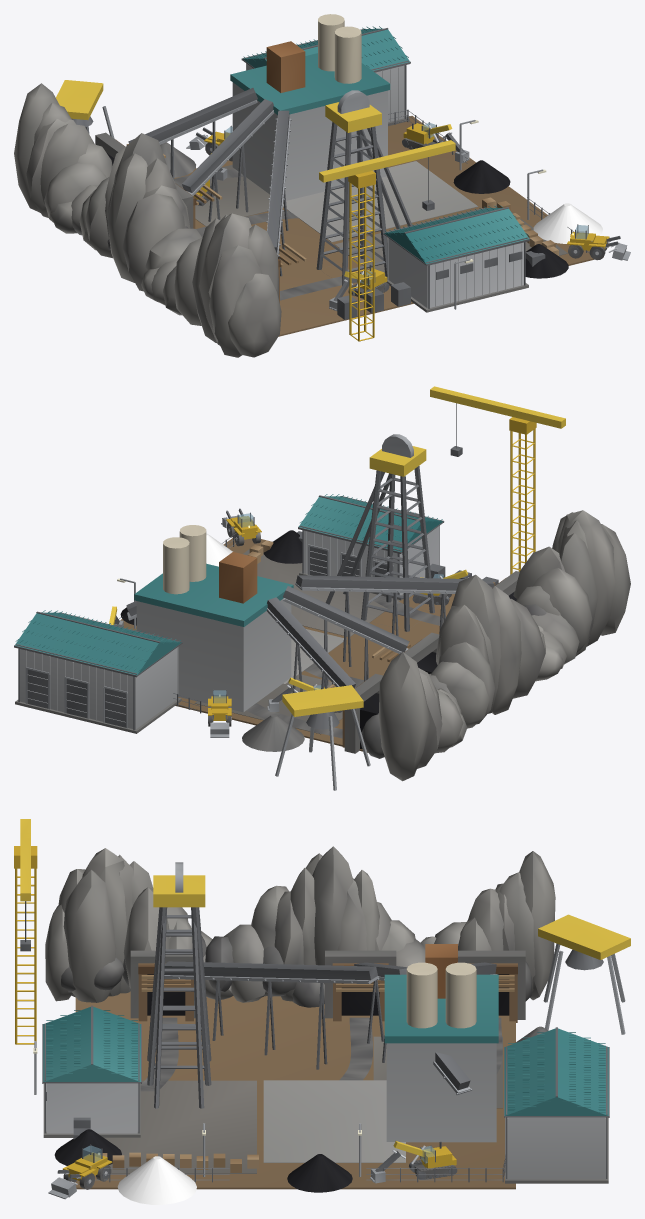
Rendered from Mine_P3.fbx.
The picture shows the model from 3 angles, top to bottom: view 1: azimuth 30°, elevation 25°; view 2: azimuth 150°, elevation 25°; view 3: azimuth 270°, elevation 25°; orthographic projection. The views are drawn at different scales.
Visible parts, largest first — view 1: Mine.Cliff, Mine.Apron, Mine.Plant, Mine.Winder, Mine.Headframe, Mine.Crane, Mine.Crusher, Mine.Conv1, Mine.Conv0, Mine.Conv2, Mine.Clutter, Mine.LoadGantry (+10 smaller); view 2: Mine.Cliff, Mine.Plant, Mine.Crusher, Mine.Apron, Mine.Headframe, Mine.Winder, Mine.Crane, Mine.Conv0, Mine.LoadGantry, Mine.Conv1, Mine.Conv2, Mine.Adit2 (+8 smaller); view 3: Mine.Apron, Mine.Cliff, Mine.Plant, Mine.Crusher, Mine.Winder, Mine.Headframe, Mine.Conv0, Mine.LoadGantry, Mine.Crane, Mine.Adit1, Mine.Adit0, Mine.Spoil0 (+11 smaller).
Part boxes in pixels (x1,y1,x2,y2): Mine.Cliff: [14, 83, 281, 357]; Mine.Apron: [174, 116, 603, 336]; Mine.Plant: [230, 14, 390, 201]; Mine.Winder: [383, 205, 530, 312]; Mine.Headframe: [316, 90, 412, 285]; Mine.Crane: [319, 140, 455, 341]; Mine.Crusher: [241, 26, 410, 125]; Mine.Conv1: [182, 99, 274, 221]; Mine.Conv0: [266, 110, 291, 276]; Mine.Conv2: [128, 88, 257, 186]; Mine.Clutter: [337, 197, 558, 319]; Mine.LoadGantry: [56, 80, 114, 138]; Mine.Cliff: [361, 510, 630, 781]; Mine.Plant: [134, 525, 293, 712]; Mine.Crusher: [14, 610, 182, 733]; Mine.Apron: [120, 538, 454, 752]; Mine.Headframe: [325, 434, 434, 631]; Mine.Winder: [298, 494, 444, 600]; Mine.Crane: [430, 386, 565, 574]; Mine.Conv0: [295, 575, 494, 666]; Mine.LoadGantry: [275, 685, 370, 790]; Mine.Conv1: [283, 586, 409, 687]; Mine.Conv2: [267, 597, 355, 692]; Mine.Adit2: [327, 673, 382, 753]; Mine.Apron: [75, 991, 515, 1189]; Mine.Cliff: [45, 846, 555, 1007]; Mine.Plant: [384, 944, 498, 1142]; Mine.Crusher: [504, 1027, 609, 1183]; Mine.Winder: [42, 1005, 141, 1137]; Mine.Headframe: [147, 862, 211, 1108]; Mine.Conv0: [164, 961, 379, 1069]; Mine.LoadGantry: [538, 914, 630, 1034]; Mine.Crane: [14, 819, 37, 1044]; Mine.Adit1: [325, 950, 396, 1021]; Mine.Adit0: [130, 950, 195, 1021]; Mine.Spoil0: [117, 1156, 196, 1204].
Bounding box in the file's own units: 8633 × 3923 × 9526.
